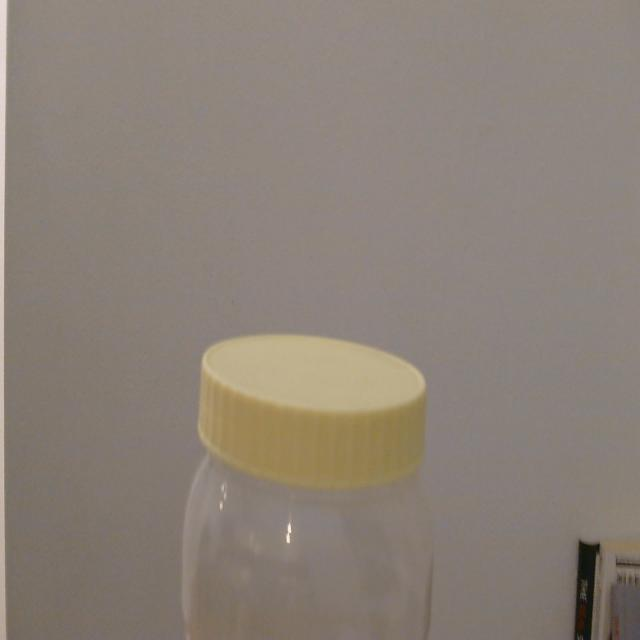cap: (174, 318, 461, 506)
